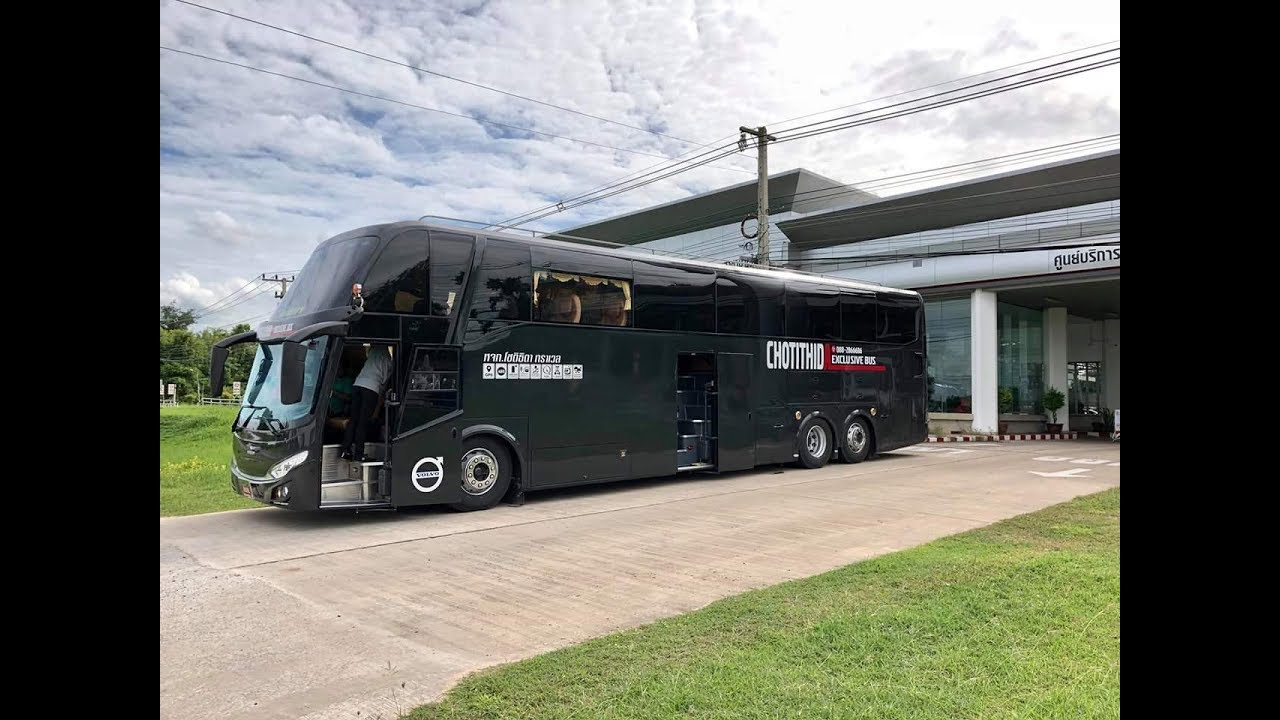bus: (231, 223, 930, 516)
